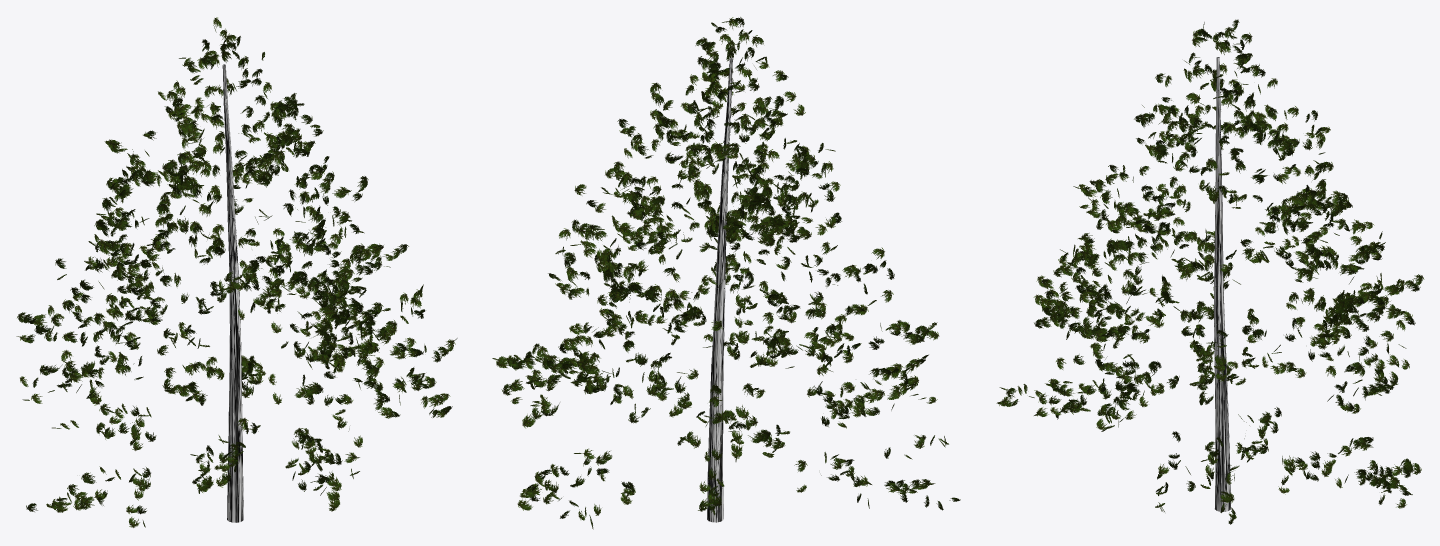
Rendered from Pine.obj.
3 views of the same model, side by side, from view 1: azimuth 30°, elevation 25°; view 2: azimuth 150°, elevation 25°; view 3: azimuth 270°, elevation 25° (orthographic). The views are drawn at different scales.
Bounding box in the file's own units: 3.73 × 4.05 × 3.29.
2 materials, 2 textured.
